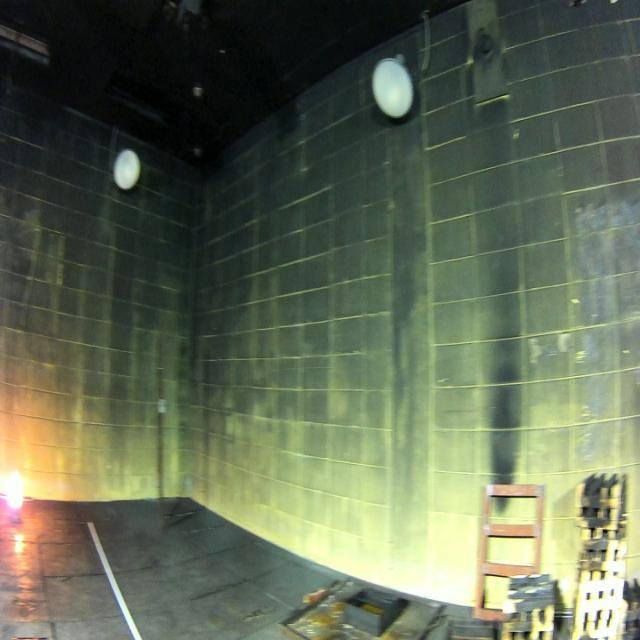Fire: (6, 470, 23, 508)
